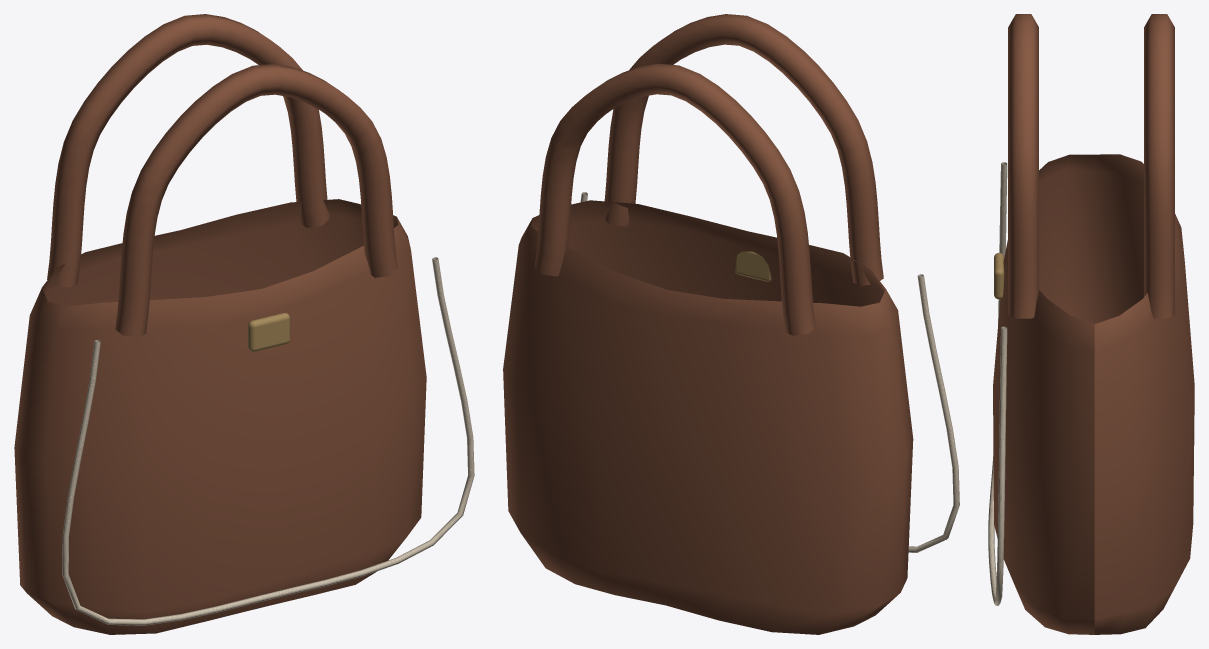
3 views of the same model, side by side, from view 1: azimuth 30°, elevation 25°; view 2: azimuth 150°, elevation 25°; view 3: azimuth 270°, elevation 25° (orthographic).
Parts seen in each view (by area): view 1: leather_tobacco, fabric_linen, aged_brass; view 2: leather_tobacco, fabric_linen, aged_brass; view 3: leather_tobacco, fabric_linen, aged_brass.
Boxes of the visible parts, x1,y1,x2,y2 form: leather_tobacco: (14,14,426,634); fabric_linen: (62,257,474,625); aged_brass: (248,313,289,351); leather_tobacco: (503,14,913,634); fabric_linen: (580,192,959,552); aged_brass: (735,251,771,281); leather_tobacco: (993,14,1194,634); fabric_linen: (988,162,1007,605); aged_brass: (994,253,1004,299).
Size of the model in its own units: 0.365 by 0.4596 by 0.1597.
Materials: 3 (1 with a texture image).
